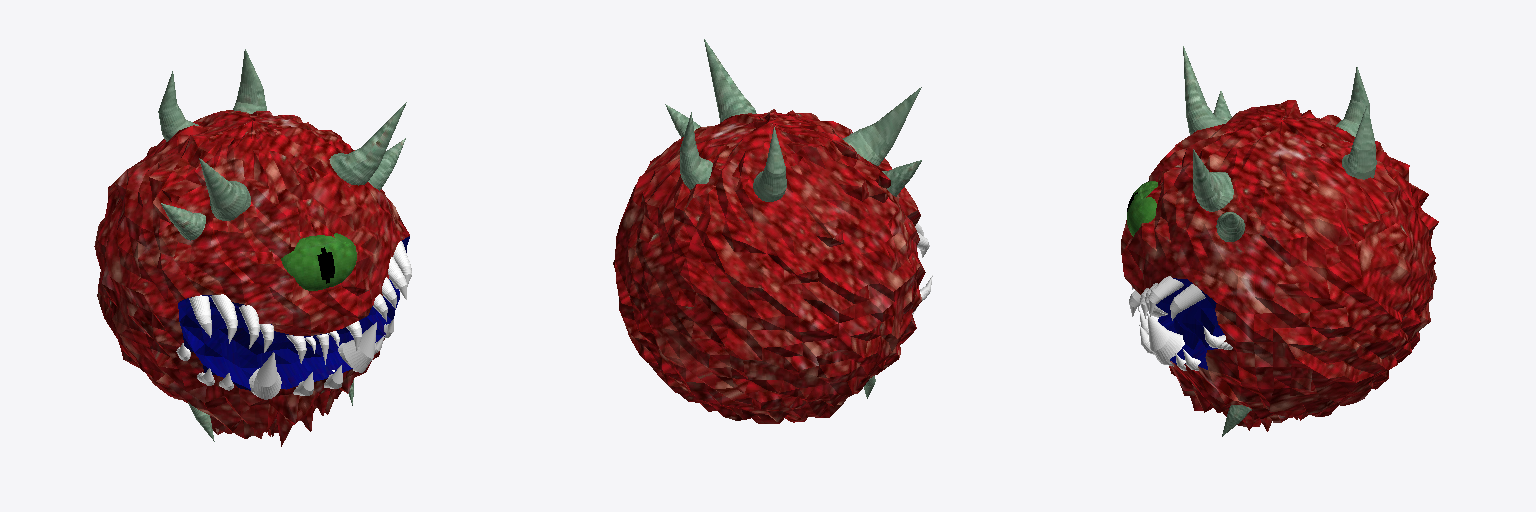
The picture shows the model from 3 angles: view 1: azimuth 30°, elevation 25°; view 2: azimuth 150°, elevation 25°; view 3: azimuth 270°, elevation 25°; orthographic projection.
Parts seen in each view (by area): view 1: cacodemon_Sphere; view 2: cacodemon_Sphere; view 3: cacodemon_Sphere.
Boxes of the visible parts, x1,y1,x2,y2 form: cacodemon_Sphere: [94, 49, 411, 446]; cacodemon_Sphere: [613, 39, 932, 423]; cacodemon_Sphere: [1121, 46, 1438, 436].
Size of the model in its own units: 3.43 by 4.07 by 3.47.
1 materials, 1 textured.